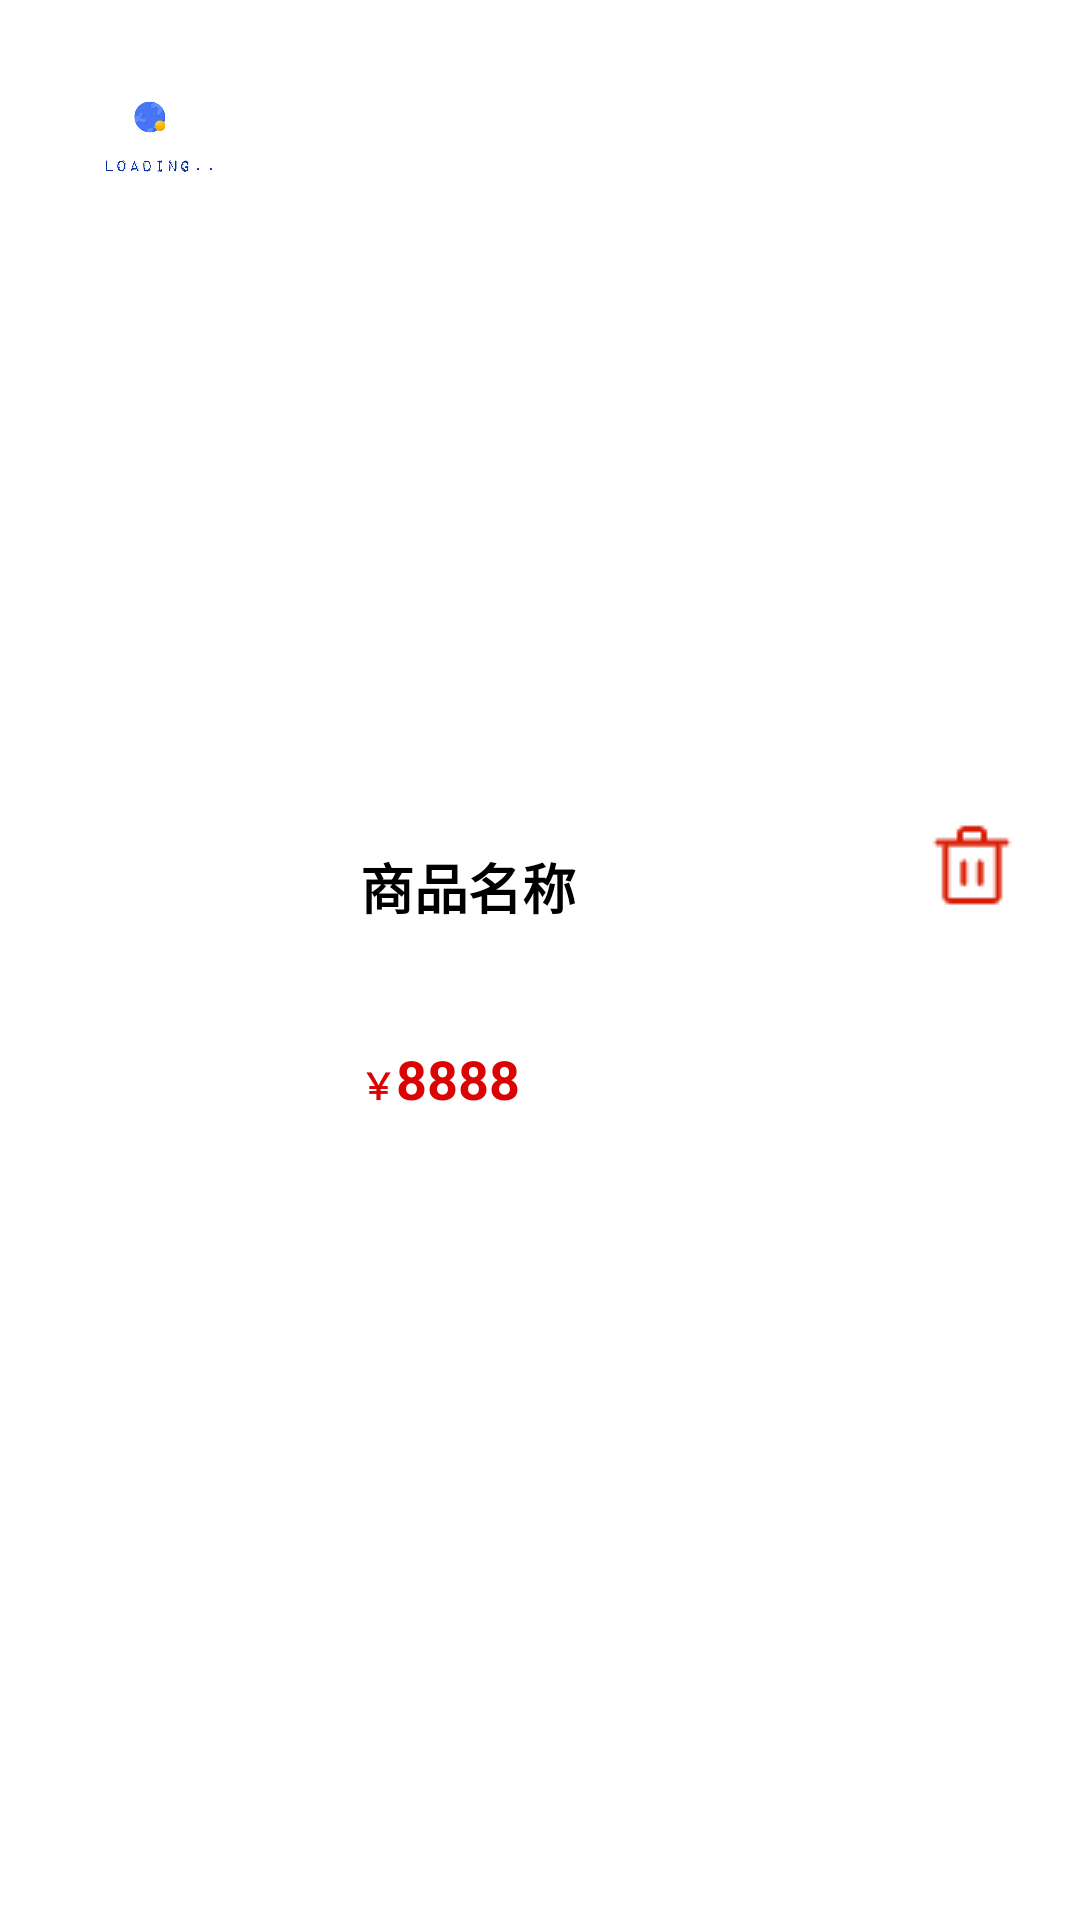

Locate icon controls on the screen. Image size 1080 x 1920, boxes as (x1=x1, y1=y1, x2=x2, y2=y2).
del: (x1=933, y1=825, x2=1011, y2=905)
